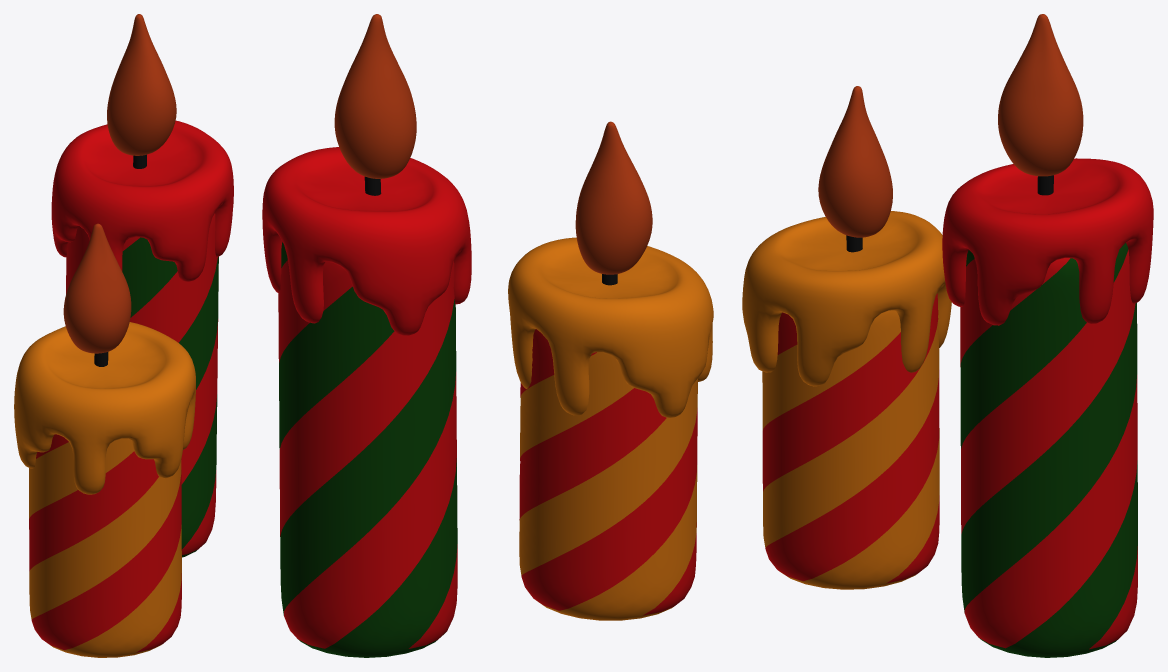
Rendered from candle.obj.
The picture shows the model from 3 angles, left to right: view 1: azimuth 30°, elevation 25°; view 2: azimuth 150°, elevation 25°; view 3: azimuth 270°, elevation 25°; orthographic projection. The views are drawn at different scales.
Parts seen in each view (by area): view 1: Circle.004_Circle.005, Cylinder.012, Cylinder.007_Cylinder.009, Circle.003_Circle.004, Vert.006_Vert.002, Vert.007_Vert.003; view 2: Circle.003_Circle.004, Circle.004_Circle.005, Cylinder.007_Cylinder.009, Cylinder.012, Vert.006_Vert.002, Vert.007_Vert.003; view 3: Circle.003_Circle.004, Circle.004_Circle.005, Cylinder.007_Cylinder.009, Cylinder.012, Vert.006_Vert.002, Vert.007_Vert.003.
Part boxes in pixels (x1,y1,x2,y2): Circle.004_Circle.005: (29, 434, 181, 657); Cylinder.012: (14, 322, 195, 494); Cylinder.007_Cylinder.009: (51, 120, 233, 281); Circle.003_Circle.004: (66, 213, 218, 557); Vert.006_Vert.002: (107, 14, 176, 155); Vert.007_Vert.003: (63, 223, 131, 353); Circle.003_Circle.004: (278, 242, 457, 657); Circle.004_Circle.005: (519, 329, 697, 620); Cylinder.007_Cylinder.009: (262, 147, 471, 335); Cylinder.012: (508, 237, 713, 418); Vert.006_Vert.002: (334, 14, 416, 178); Vert.007_Vert.003: (575, 121, 652, 274); Circle.003_Circle.004: (960, 243, 1137, 657); Circle.004_Circle.005: (762, 293, 939, 589); Cylinder.007_Cylinder.009: (942, 158, 1153, 325); Cylinder.012: (742, 211, 951, 386); Vert.006_Vert.002: (998, 14, 1083, 176); Vert.007_Vert.003: (818, 86, 892, 237).
Bounding box in the file's own units: 1.63 × 2.94 × 1.79.
